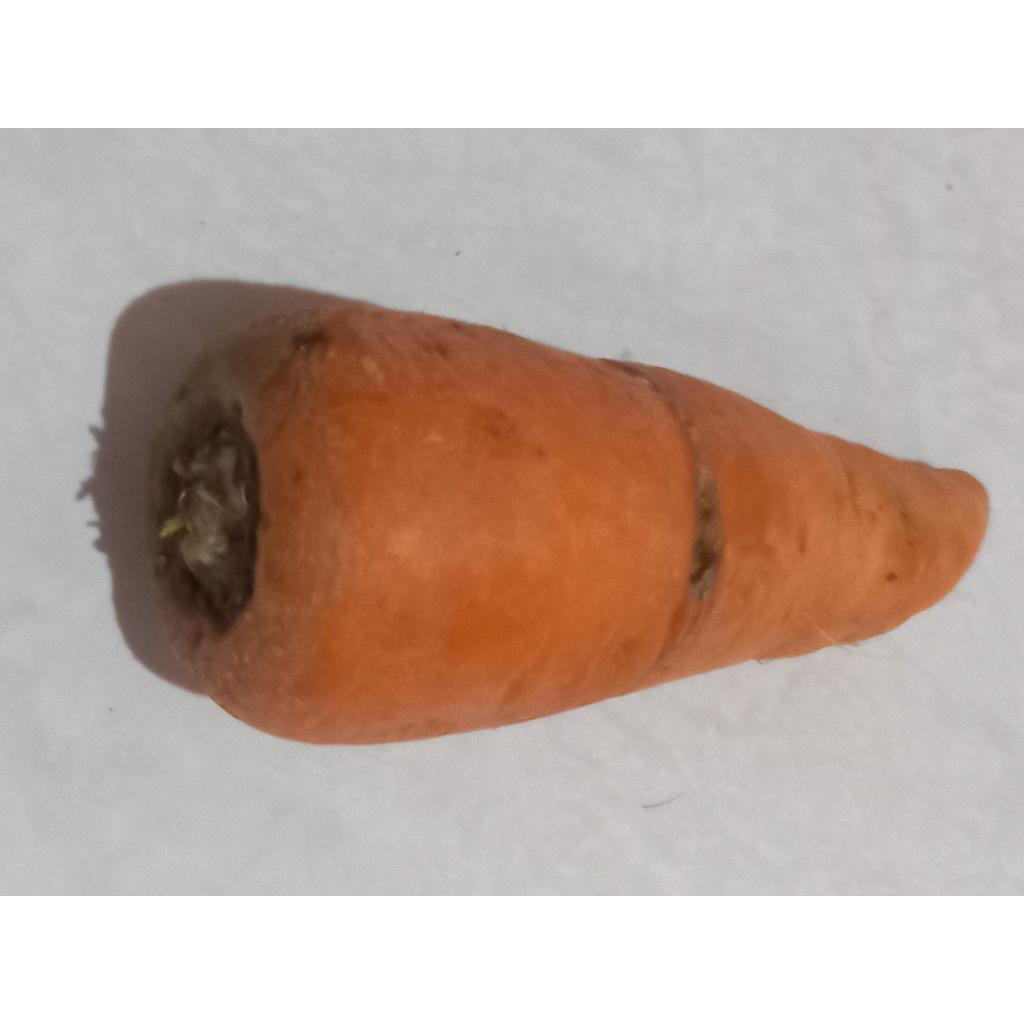carrot: (150, 304, 988, 742)
